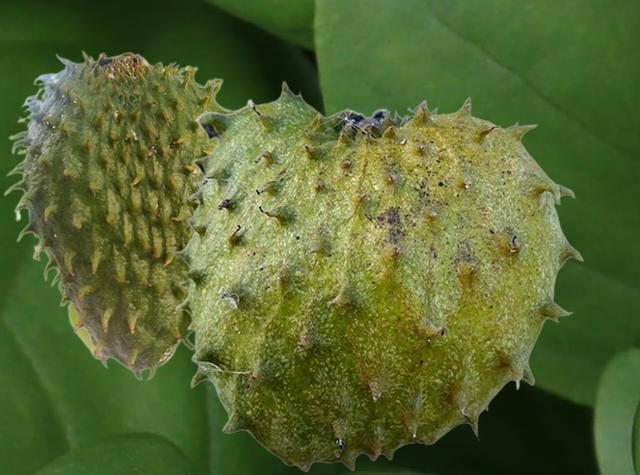guyabano: (172, 79, 583, 471), (3, 50, 238, 380)
